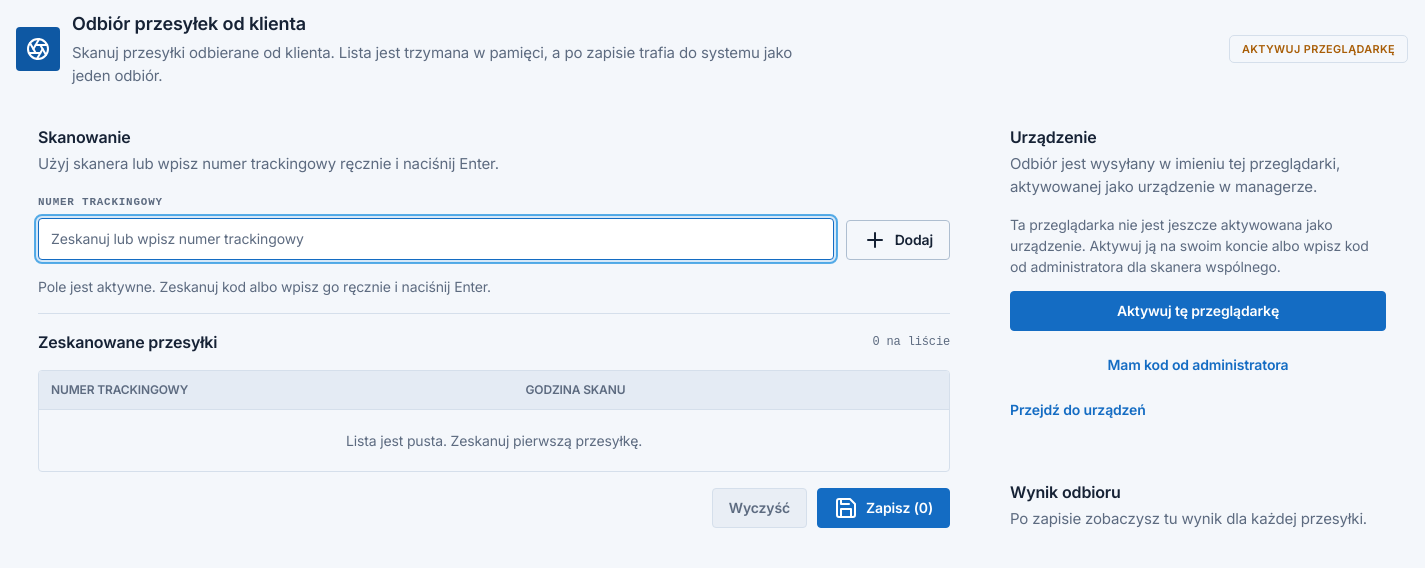
Test: ShipmentScanner › activates the browser on the current account with one click
Click the button "Aktywuj tę przeglądarkę". click: (1198, 311)
box: [1010,291,1386,331]
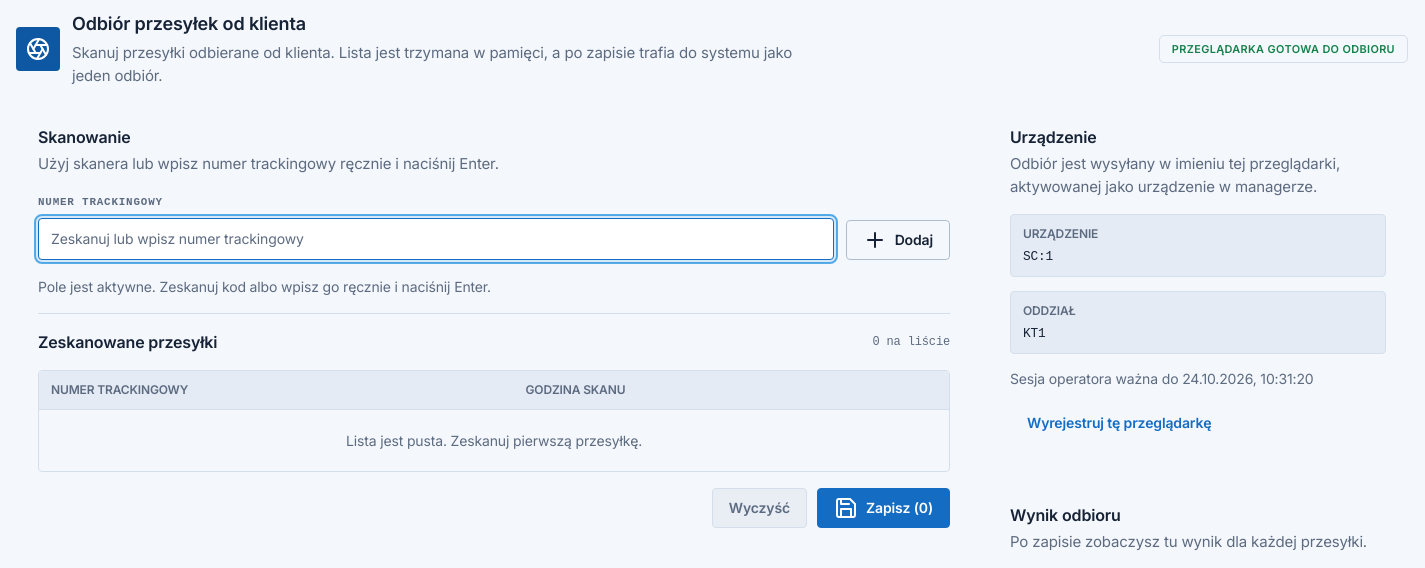
Now the text "SC:1" is shown, box [1023,249,1053,264]
